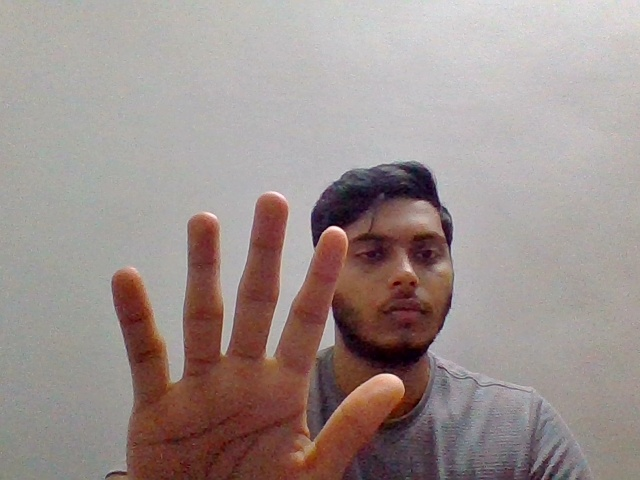Hello: (97, 186, 410, 480)
